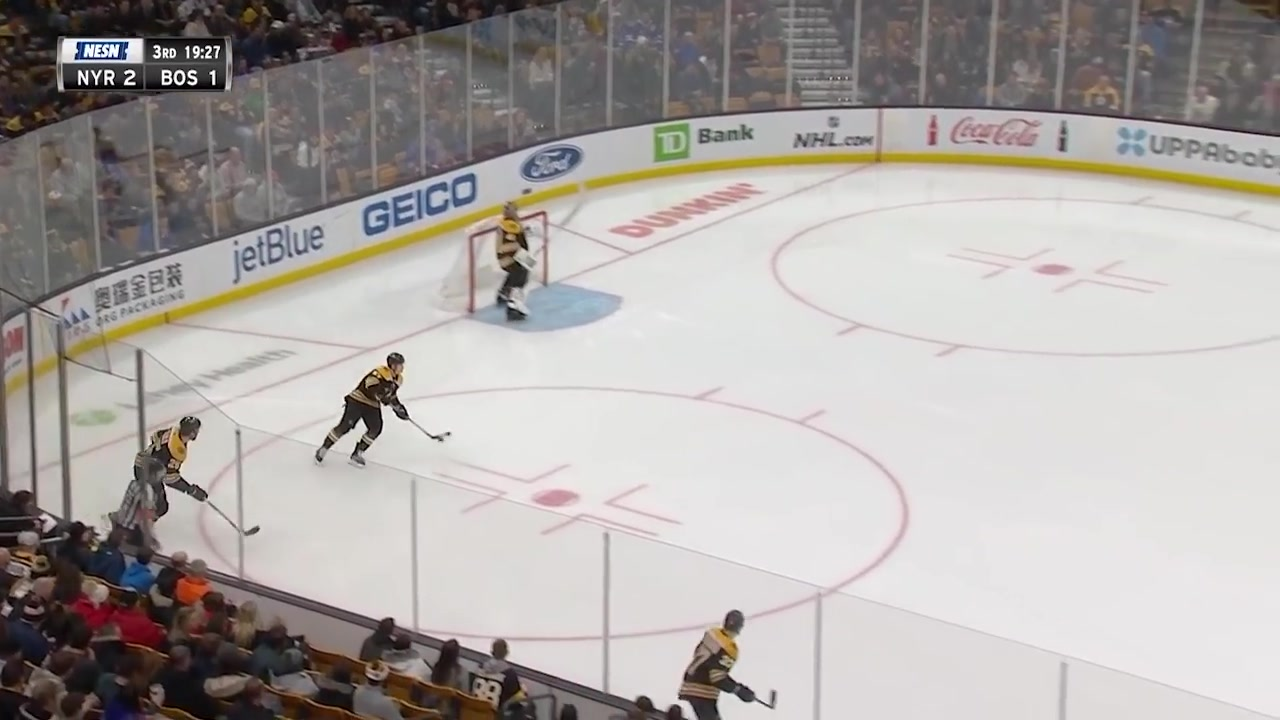Geico: (357, 168, 486, 245)
